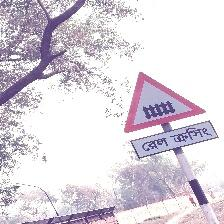Rail-crossing: (124, 71, 218, 160)
